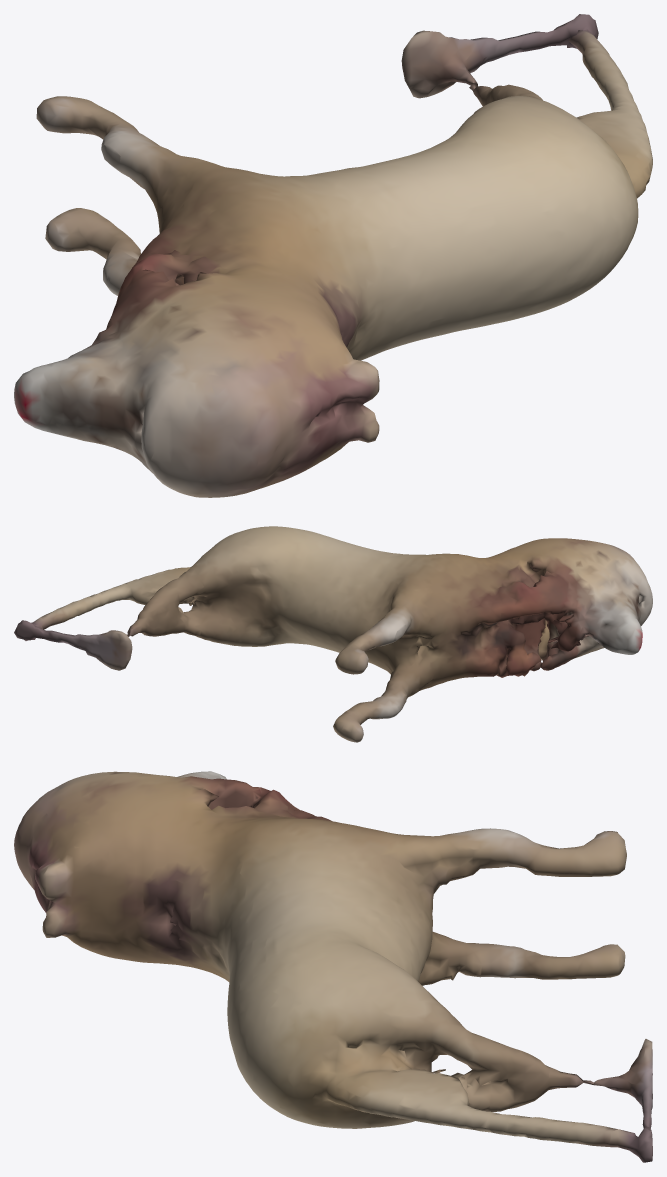
File: lion.glb
The picture shows the model from 3 angles, top to bottom: view 1: azimuth 30°, elevation 25°; view 2: azimuth 150°, elevation 25°; view 3: azimuth 270°, elevation 25°; orthographic projection. The views are drawn at different scales.
Bounding box in the file's own units: 0.9999 × 0.231 × 0.7501.
